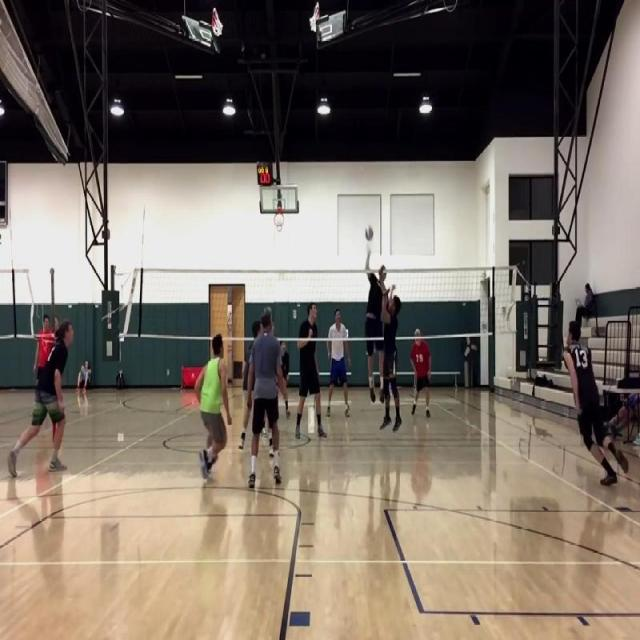volleyball: (365, 226, 373, 240)
